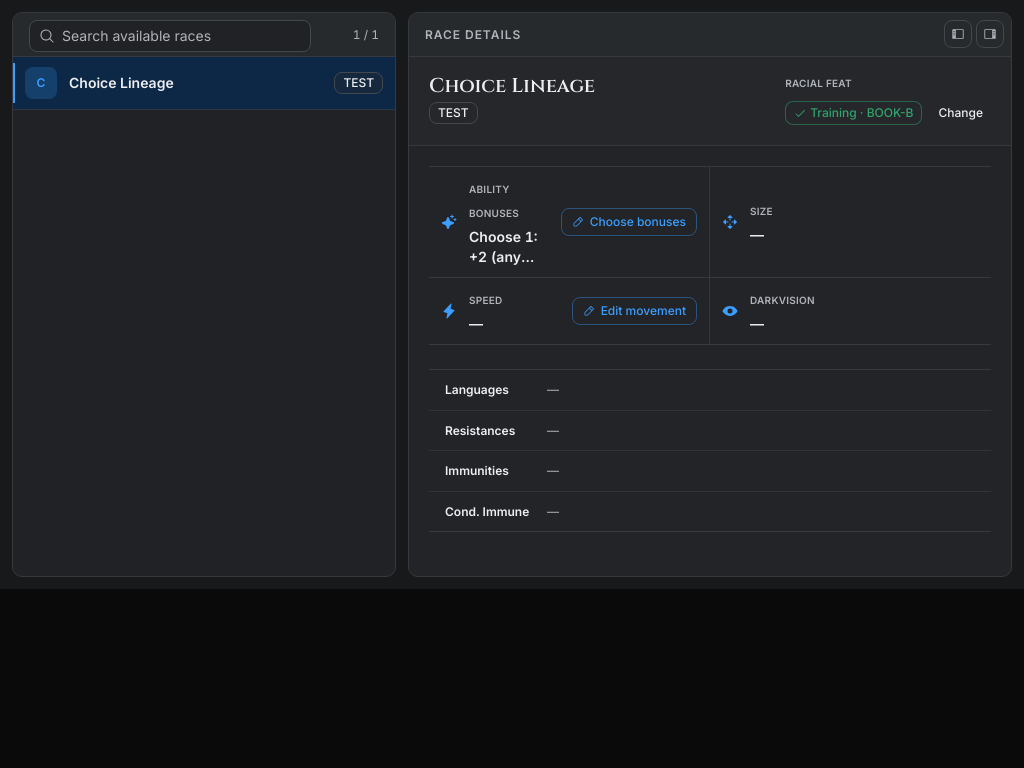
Test: explicit replacement saves the selected printing and preserves independently configured same-target ownership
Click the button "Change" at (961, 113), box [930,97,991,129]
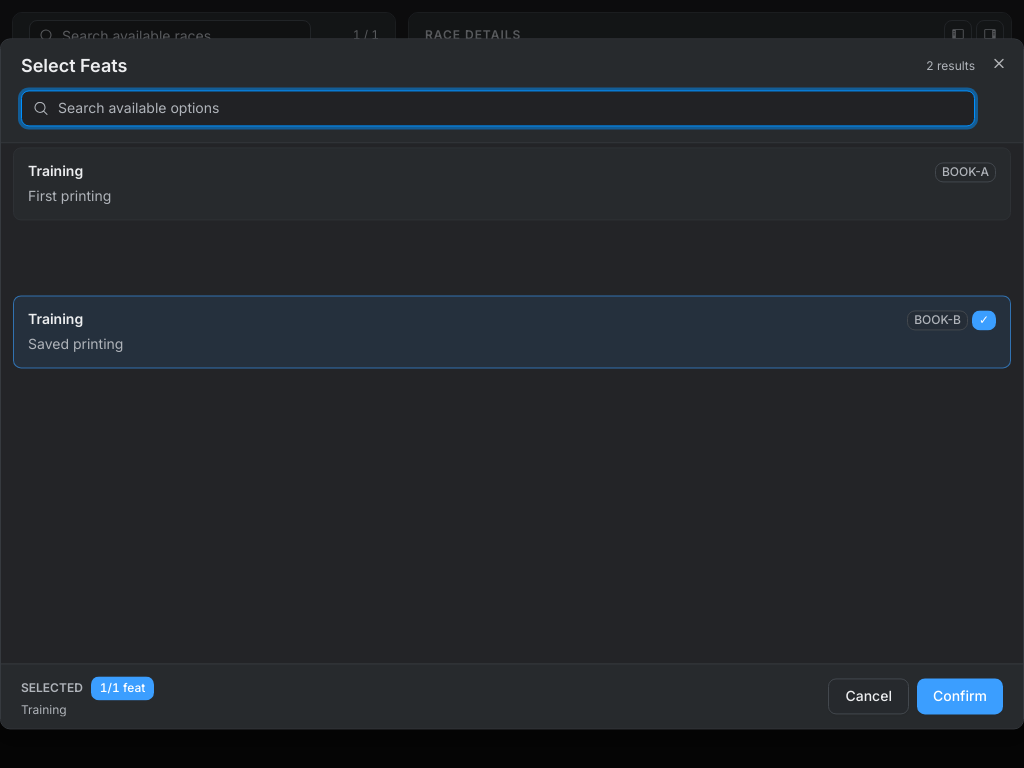
Click the text "First printing" at (70, 195), box [28,187,111,204]
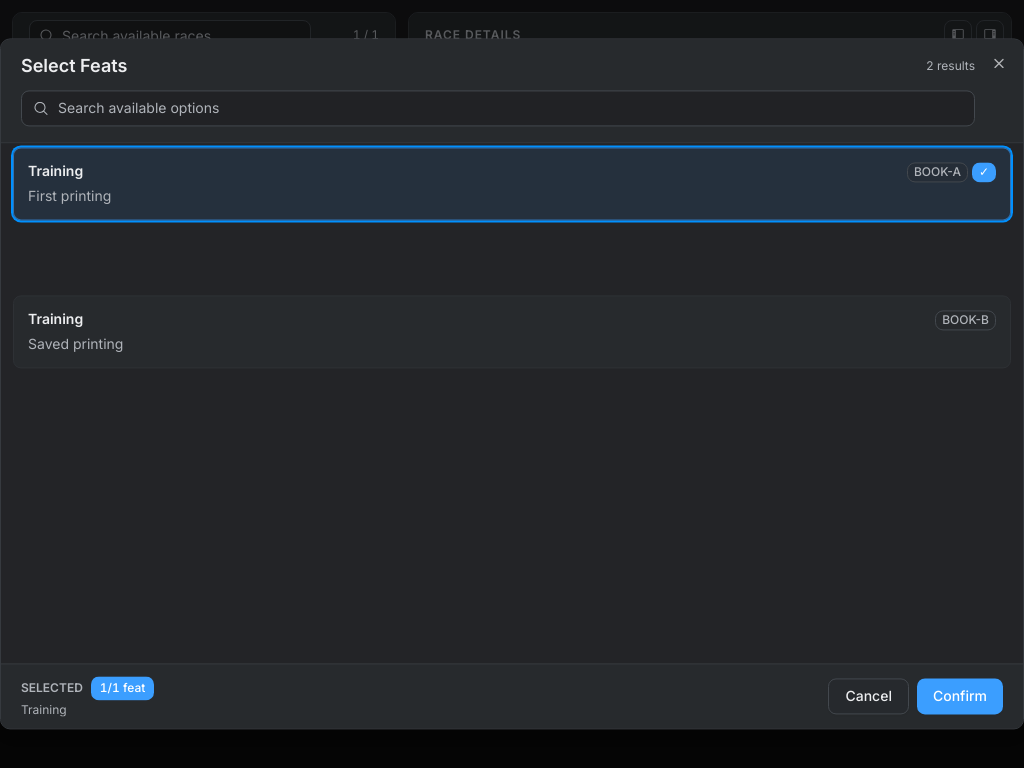
Click the button "Confirm" at (960, 697), box [917,679,1003,715]
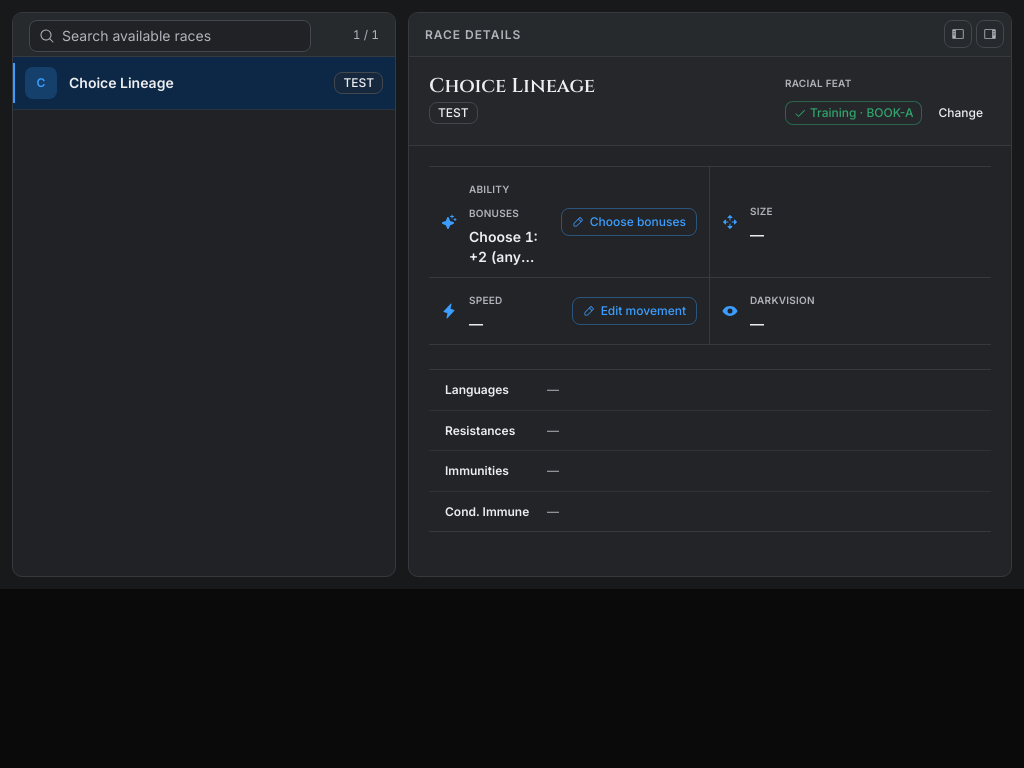
Check: the text "Training · BOOK-A" is shown, box [785,101,922,125]
